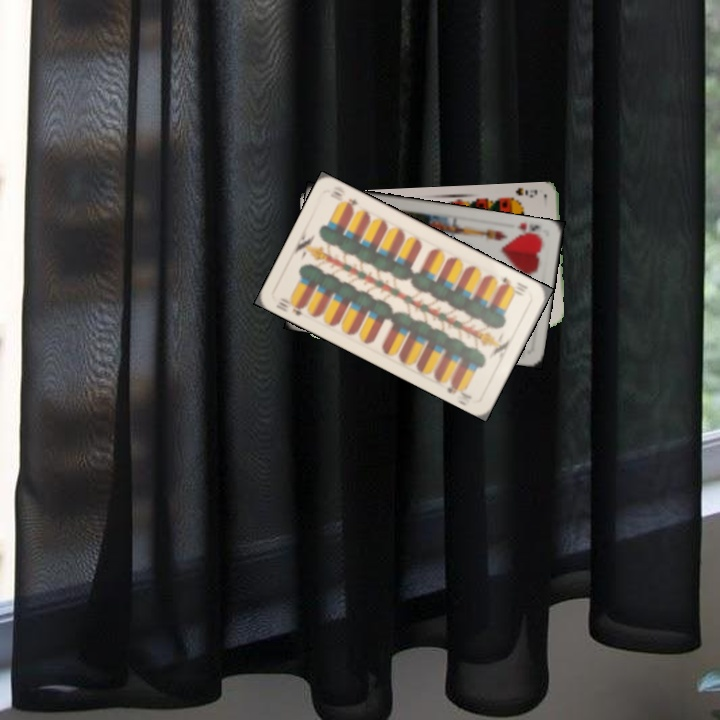E10: (274, 297, 309, 320), (496, 273, 531, 292)
HK: (512, 219, 542, 238)
S9: (503, 185, 540, 206)
